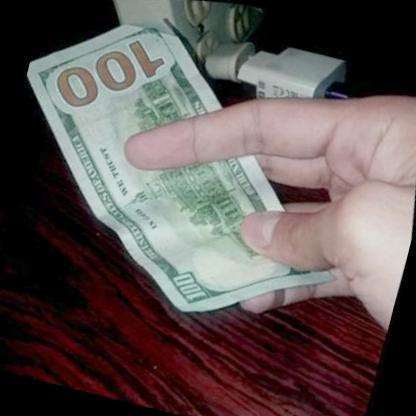one_hundred-back: (0, 0, 416, 391)
